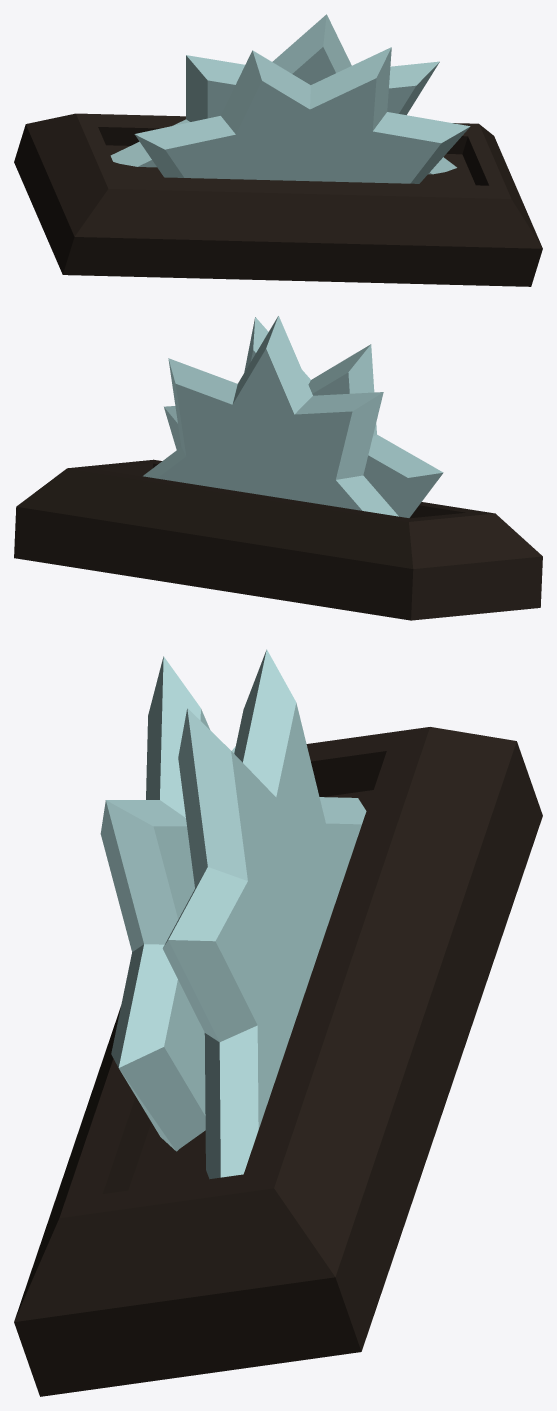
Rendered from Sierra_color.fbx.
3 renders of one model, top to bottom at view 1: azimuth 30°, elevation 25°; view 2: azimuth 150°, elevation 25°; view 3: azimuth 270°, elevation 25°, orthographic. The views are drawn at different scales.
Visible parts, largest first — view 1: Sierra_Color; view 2: Sierra_Color; view 3: Sierra_Color.
Boxes of the visible parts, x1,y1,x2,y2 form: Sierra_Color: [14, 14, 542, 286]; Sierra_Color: [14, 316, 542, 620]; Sierra_Color: [14, 649, 542, 1396].
Size of the model in its own units: 17.26 by 9.08 by 10.17.
